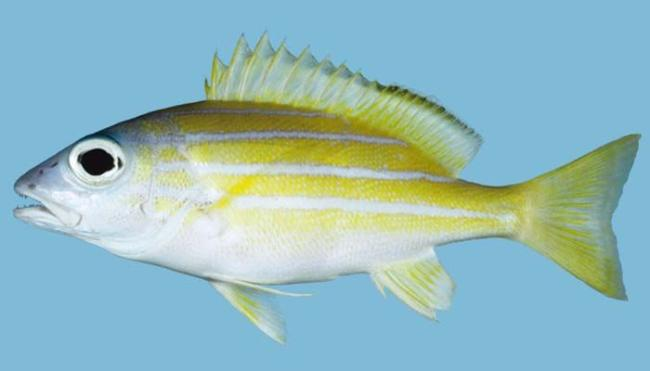fish: (12, 28, 643, 348)
